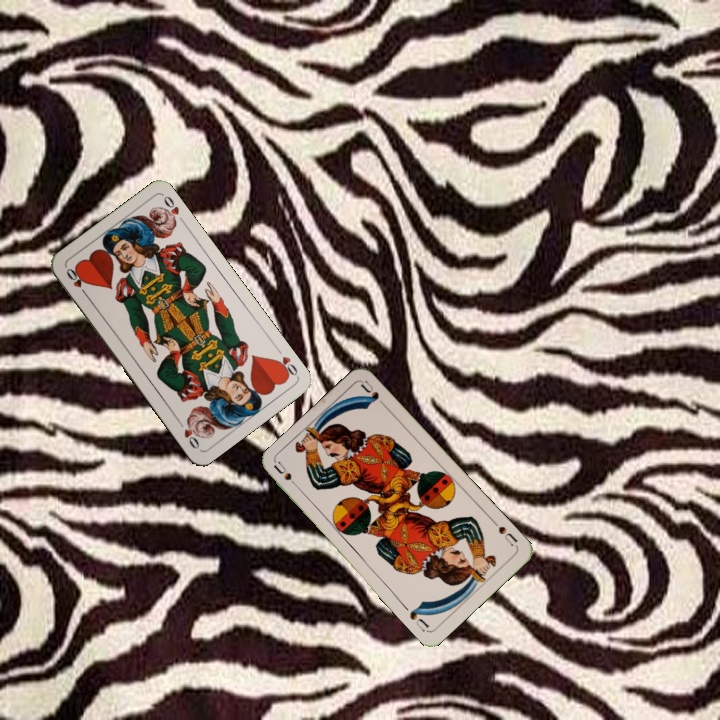HO: (271, 343, 300, 381), (62, 264, 90, 299)
SU: (271, 458, 303, 494), (488, 517, 521, 549)
